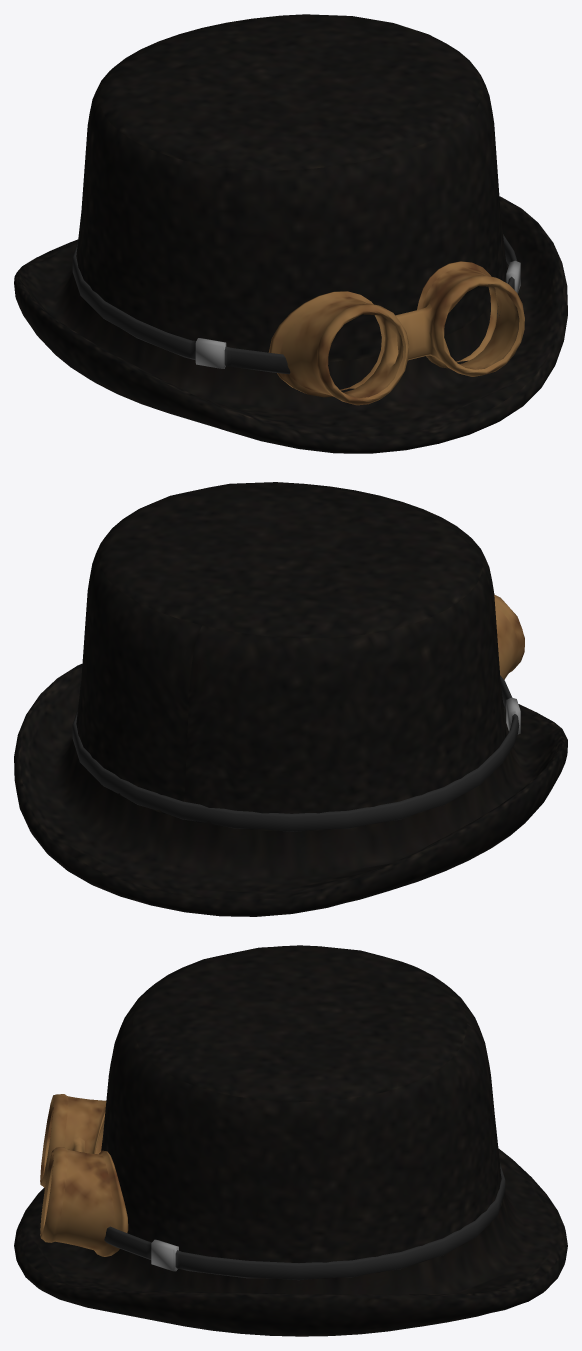
File: chapeau_steampunk.glb
3 views of the same model, one above another, from view 1: azimuth 30°, elevation 25°; view 2: azimuth 150°, elevation 25°; view 3: azimuth 270°, elevation 25° (orthographic). The views are drawn at different scales.
Parts seen in each view (by area): view 1: Hat.002_0; view 2: Hat.002_0; view 3: Hat.002_0.
Part boxes in pixels (bbox=[...]): Hat.002_0: bbox=[14, 14, 567, 453]; Hat.002_0: bbox=[14, 482, 567, 916]; Hat.002_0: bbox=[14, 945, 567, 1336].
Size of the model in its own units: 0.4134 by 0.2139 by 0.4491.
1 material, 1 textured.
